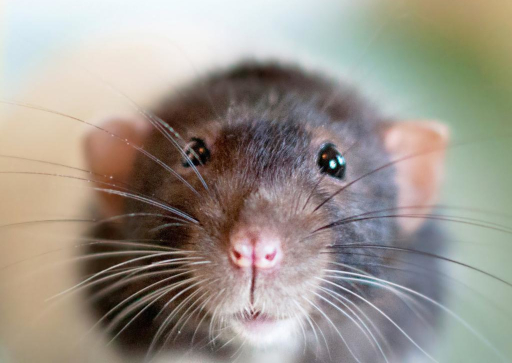rat: (59, 45, 470, 363)
